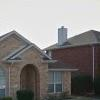Chimney: (48, 19, 74, 49)
